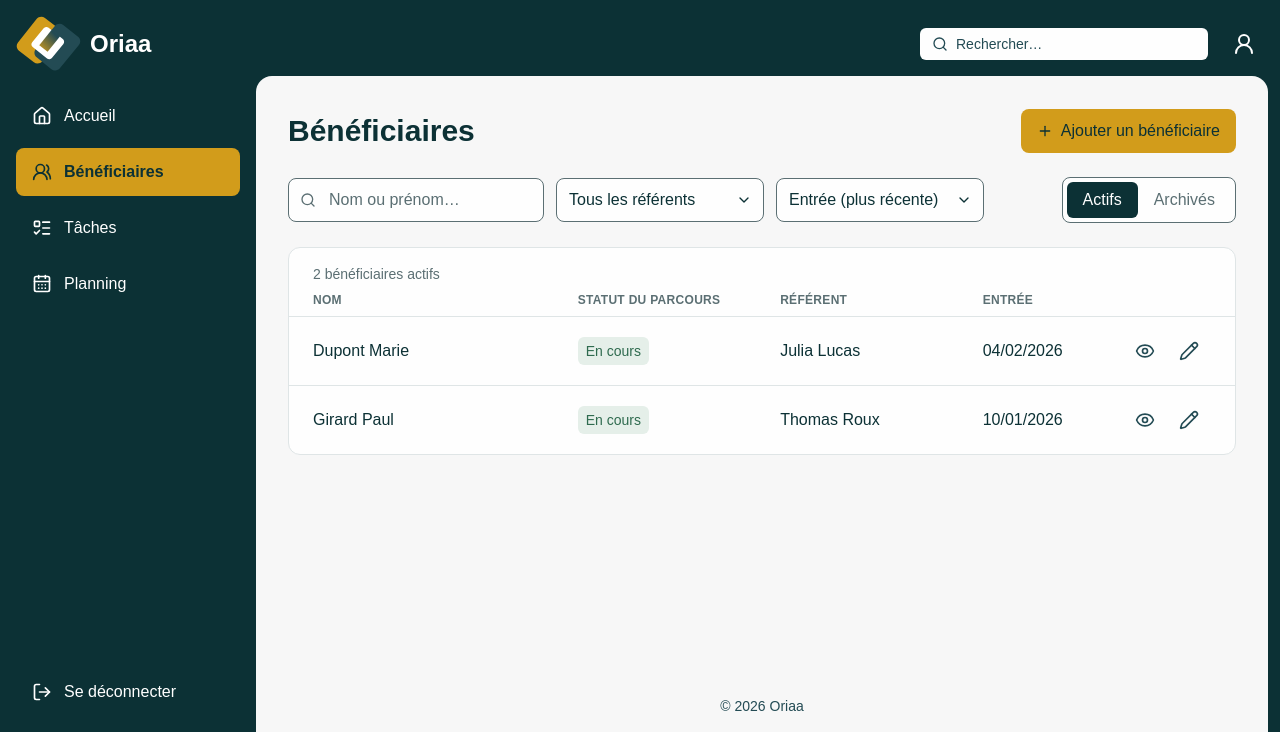
Test: BeneficiariesPage › enregistre le référent choisi
Expected: the link "Dupont Marie" is shown, [313,342,409,359]
Select "Thomas Roux" in the dropdown named "Filtrer par référent" at x=660, y=200, box [556,178,764,222]
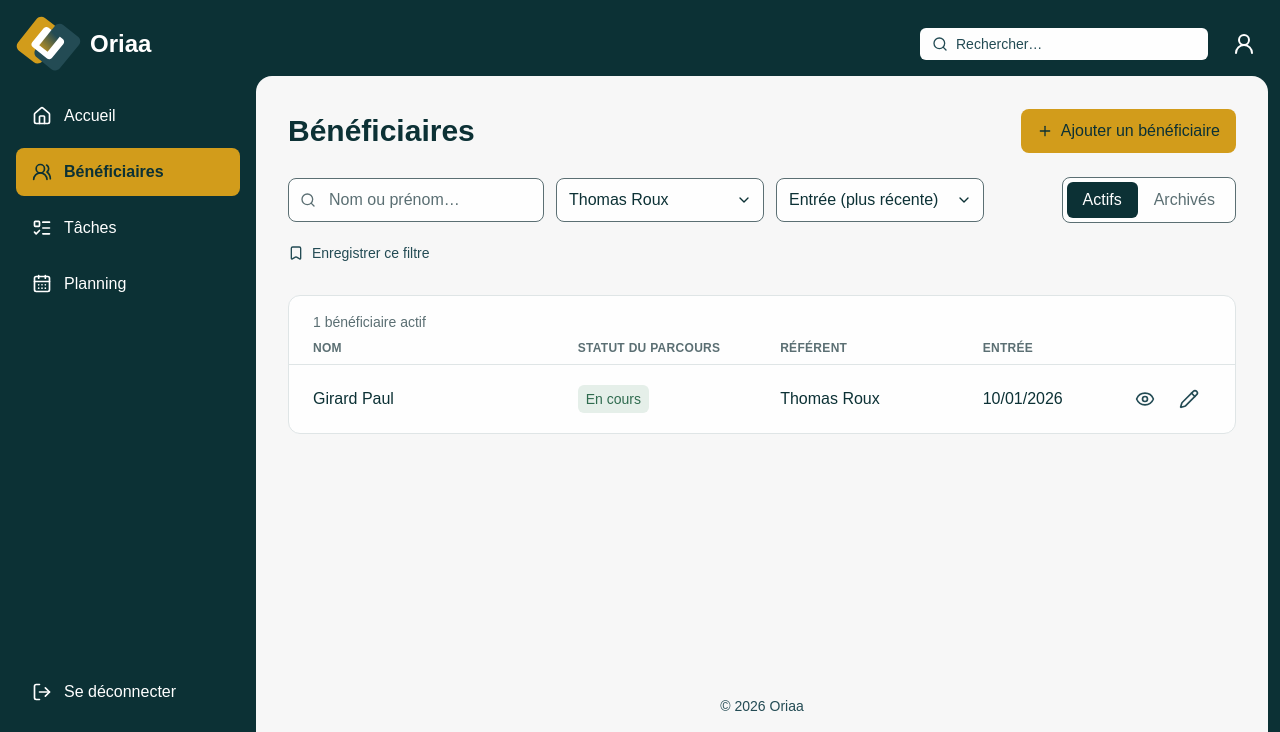
Click the button "Enregistrer ce filtre".
click(359, 253)  # box [288,235,430,271]
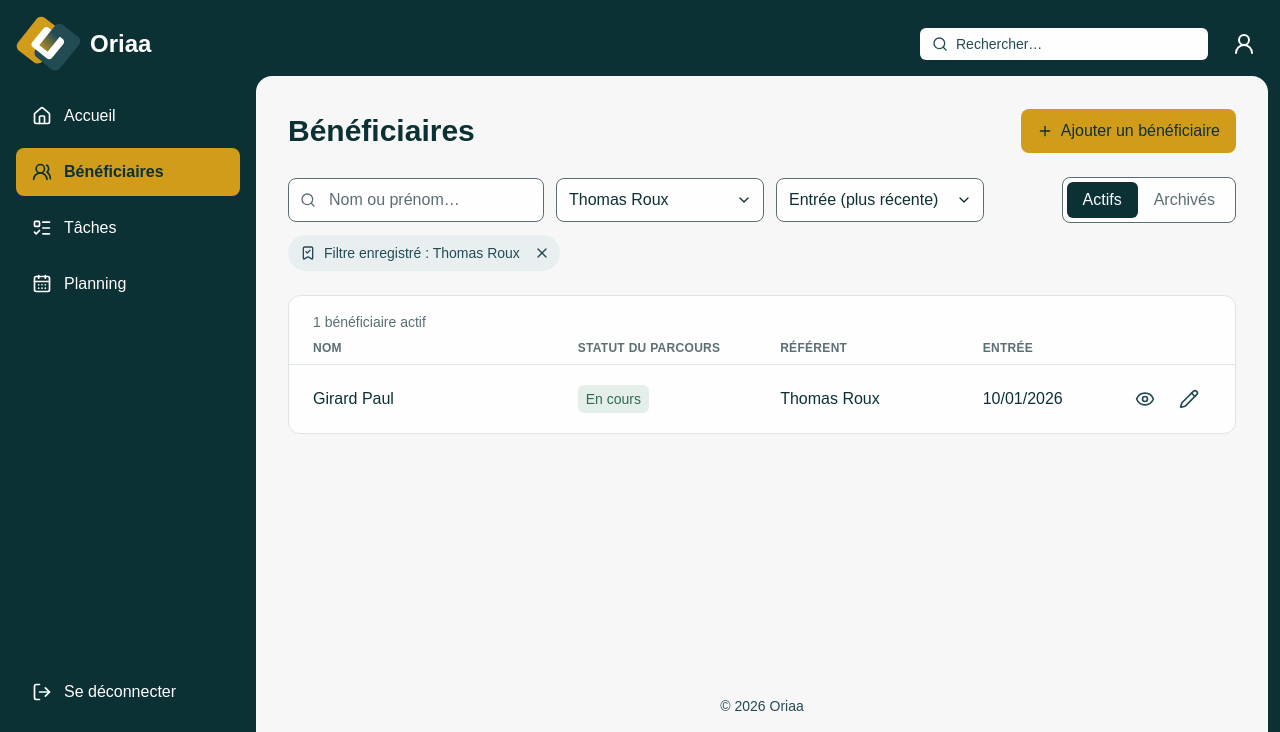
Now the text "Filtre enregistré : Thomas Roux" is shown, box [288,235,560,271]
